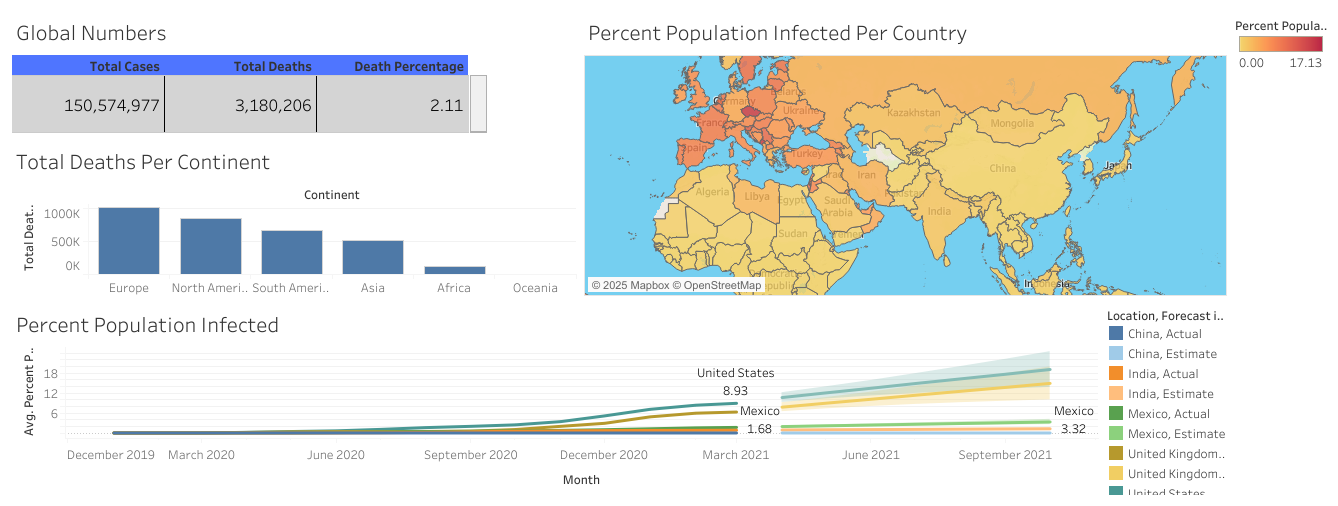

The dashboard page shown, as its layout file describes it:
{"tool":"tableau","page":{"name":"Dashboard 1","canvas":[1000,1000],"units":"permille","ordinal":0},"visuals":[{"type":"worksheet","title":"Sheet 1","mark":"Automatic","box":[6.9,14.5,420.6,255.4]},{"type":"worksheet","title":"Sheet 3","mark":"Automatic","box":[427.5,14.5,479,577.9]},{"type":"legend","title":"Sheet 3","param":"[federated.0ul2m0v19pdo1e177xx8r0wnbvrq].[sum:PercentPopulationInfected:qk]","box":[906.5,14.5,86.6,117.8]},{"type":"worksheet","title":"Sheet 2","mark":"Automatic","rows":["TotalDeathCount"],"cols":["location"],"box":[6.9,269.9,420.6,322.5]},{"type":"worksheet","title":"Sheet 4","mark":"Automatic","rows":["PercentPopulationInfected"],"cols":["date"],"box":[6.9,592.4,804.5,393.1]},{"type":"legend","title":"Sheet 4","param":"[federated.03va74x0zb8ayq17rtdac1kg8gyd].[none:Location:nk]\n[federated.03va74x0z","box":[811.4,592.4,95.1,393.1]}]}

Visuals, with their boxes on the dashboard's canvas, which has no fixed pixel size, in thousandths of its width and height (x1, y1, x2, y2). These are canvas units, not pixel positions in the 1338x506 screenshot, which may show the page scaled, cropped or inside an application window:
"Sheet 1" worksheet: [x1=7, y1=14, x2=428, y2=270]
"Sheet 3" worksheet: [x1=428, y1=14, x2=906, y2=592]
"Sheet 3" legend: [x1=906, y1=14, x2=993, y2=132]
"Sheet 2" worksheet: [x1=7, y1=270, x2=428, y2=592]
"Sheet 4" worksheet: [x1=7, y1=592, x2=811, y2=986]
"Sheet 4" legend: [x1=811, y1=592, x2=906, y2=986]
